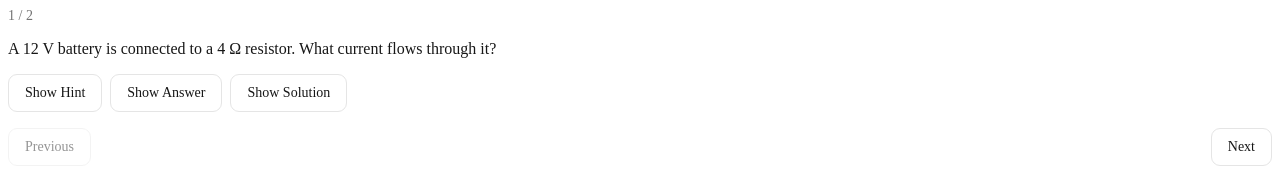
Test: PracticeProblems › navigates between problems
Expected: the text "1 / 2" is shown, [8, 8, 33, 23]
Click the button "Next" at (1241, 147), box [1211, 128, 1272, 166]
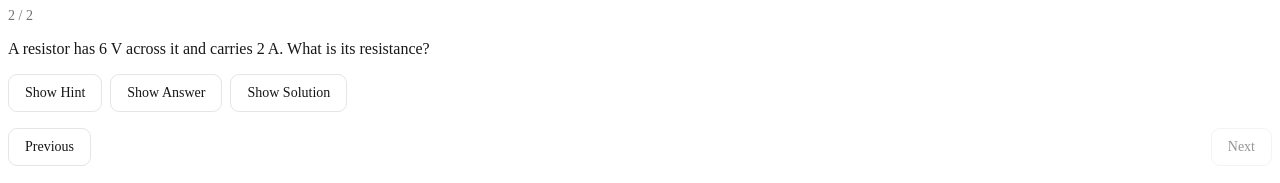
Expected: the text "2 / 2" is shown, [8, 8, 33, 23]
Click the button "Previous" at (50, 147), box [8, 128, 91, 166]
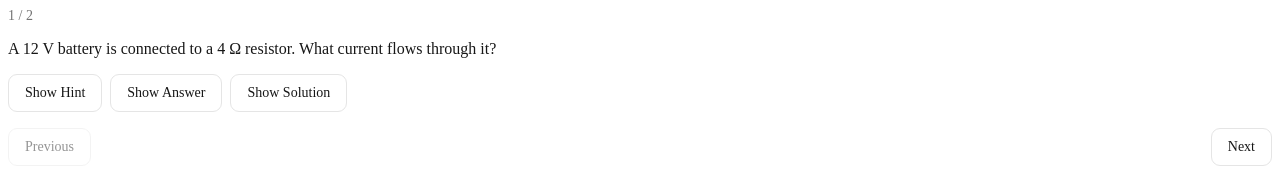
Expected: the text "1 / 2" is shown, [8, 8, 33, 23]
